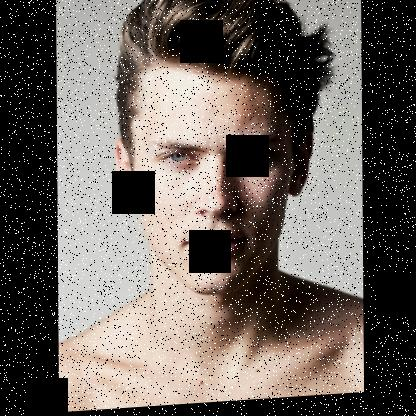Male: (115, 54, 313, 302)
